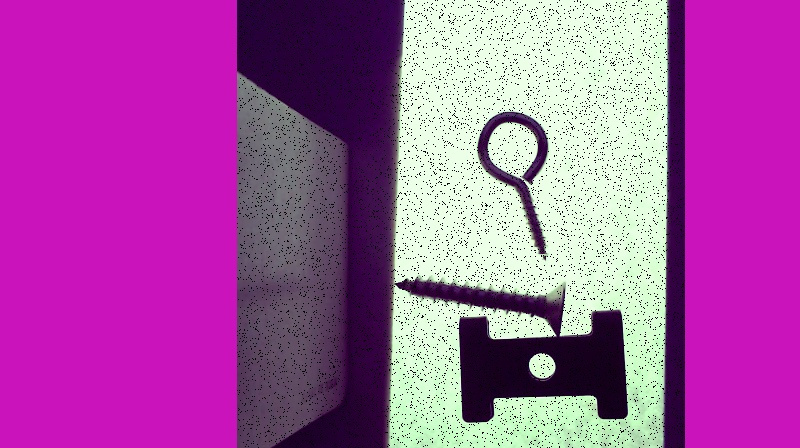O001: (476, 107, 549, 264)
O002: (456, 308, 629, 422)
S001: (395, 273, 566, 335)
